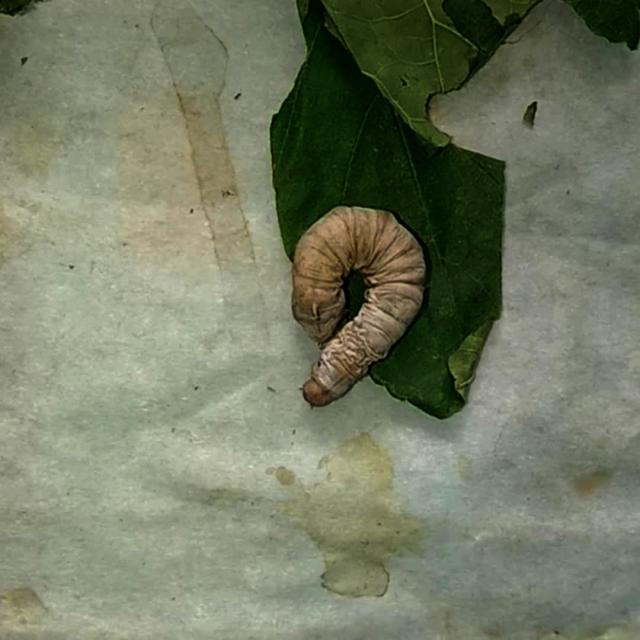Grasserie: (278, 191, 432, 419)
